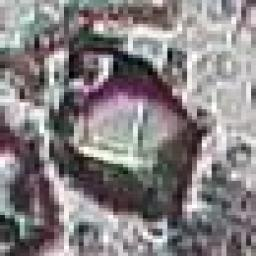crystals: (39, 45, 212, 226)
